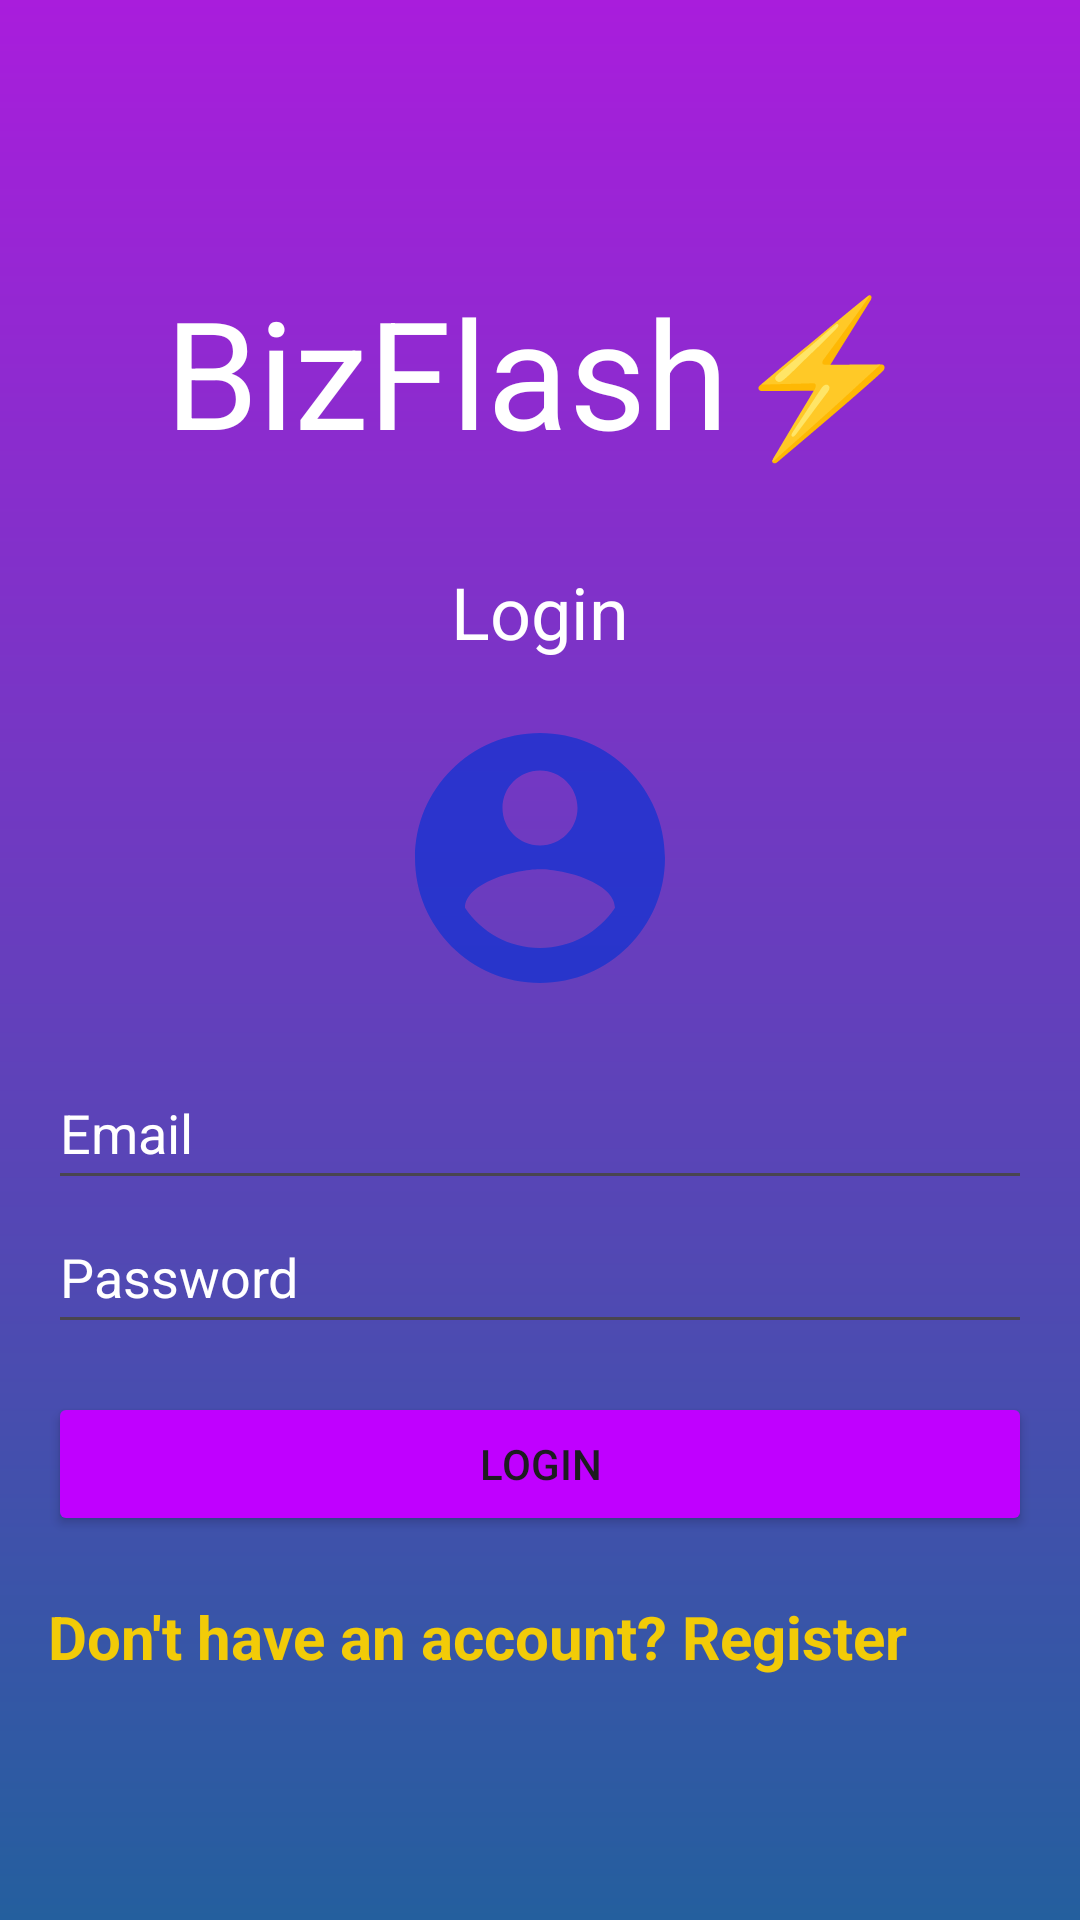

Icons on this 1080*1920 Android screen, each with the point to tap as (x,y):
account circle: (540,858)
